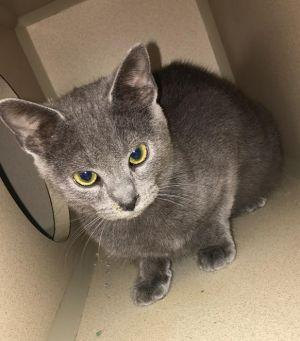rblue: (1, 32, 182, 237)
